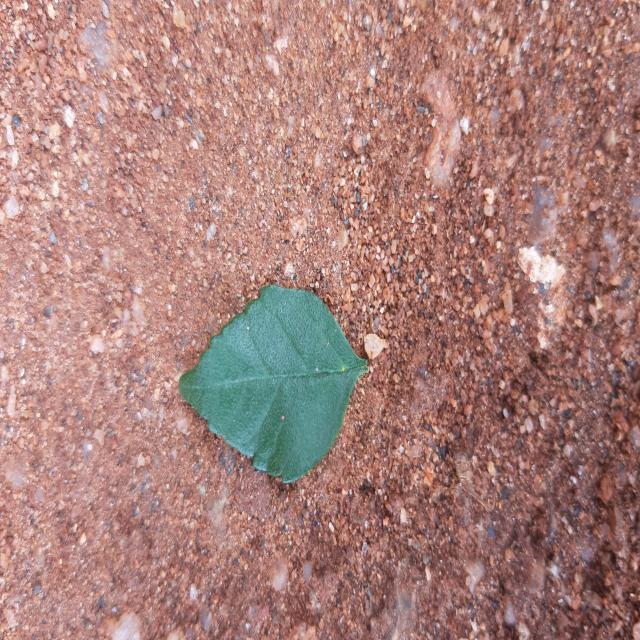tecoma: (179, 284, 368, 482)
